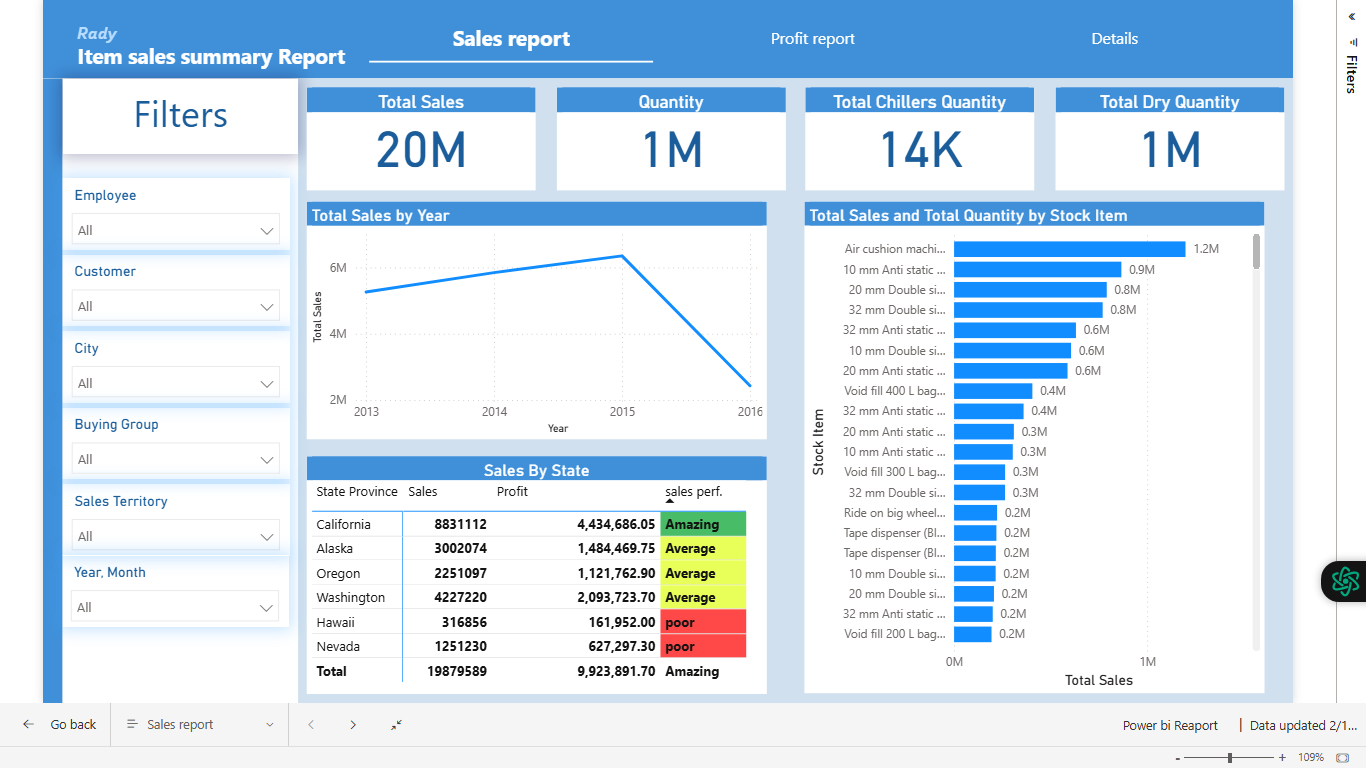

The page's visual inventory and layout, read from the dashboard file:
{"tool":"powerbi","page":{"name":"Sales report","canvas":[1280,720],"ordinal":0},"visuals":[{"type":"shape","box":[0,0,1280,80],"z":0},{"type":"shape","box":[0,80,20,640],"z":1000},{"type":"shape","box":[20,80,241.4,640],"z":2000},{"type":"textbox","box":[20,81.4,241.4,77.1],"z":4000},{"type":"cardVisual","title":"Total Sales","fields":{"Data":["Sum(FactSale.Total Excluding Tax)"]},"box":[270.4,89.6,234.2,105.5],"z":5000},{"type":"cardVisual","title":"Quantity","fields":{"Data":["Sum(FactSale.Quantity)"]},"box":[525.8,89.6,234.2,105.5],"z":6000},{"type":"cardVisual","title":"Total Chillers Quantity","fields":{"Data":["Sum(FactSale.Total Chiller Items)"]},"box":[780.7,89.6,234.2,105.5],"z":7000},{"type":"cardVisual","title":"Total Dry Quantity","fields":{"Data":["Sum(FactSale.Total Dry Items)"]},"box":[1036.6,89.6,234.2,105.5],"z":8000},{"type":"lineChart","fields":{"Category":["DimDate.Date.Variation.Date Hierarchy.Year","DimDate.Date.Variation.Date Hierarchy.Quarter","DimDate.Date.Variation.Date Hierarchy.Month","DimDate.Date.Variation.Date Hierarchy.Day"],"Y":["Sum(FactSale.Total Excluding Tax)"]},"box":[270.4,206.7,471.3,242.9],"z":9000},{"type":"barChart","fields":{"Y":["Sum(FactSale.Total Excluding Tax)"],"Category":["DimStockItem.Stock Item"]},"box":[779.3,206.7,471.3,503.1],"z":10000},{"type":"slicer","fields":{"Values":["DimEmployee.Employee"]},"box":[19.1,182.9,232.9,72.9],"z":12000},{"type":"textbox","box":[30,36,336,46],"z":13000},{"type":"slicer","fields":{"Values":["DimCustomer.Customer"]},"box":[19.1,261.1,232.9,72.9],"z":14000},{"type":"slicer","fields":{"Values":["DimCity.City"]},"box":[19.1,339.3,232.9,72.9],"z":15000},{"type":"slicer","fields":{"Values":["DimCity.Sales Territory"]},"box":[19.1,495.7,232.9,72.9],"z":16000},{"type":"slicer","fields":{"Values":["DimCustomer.Buying Group"]},"box":[19.1,417.5,232.9,72.9],"z":17000},{"type":"pageNavigator","box":[330.3,9.6,919.4,59.2],"z":18000},{"type":"textbox","box":[0,15,110,42.5],"z":19000},{"type":"pivotTable","title":"Sales By State","fields":{"Values":["Sum(FactSale.Total Excluding Tax)","Sum(FactSale.Profit)","FactSale.sales perf."],"Rows":["DimCity.State Province"]},"box":[270.4,467,471.3,242.9],"z":19001},{"type":"slicer","fields":{"Values":["DimDate.Fiscal Year","DimDate.Fiscal Month Label"]},"box":[18.6,568.6,232.9,72.9],"z":19002}]}

Visuals, with their boxes on the page's 1280x720 design canvas (x1, y1, x2, y2). These are canvas units, not pixel positions in the 1366x768 screenshot, which may show the page scaled, cropped or inside an application window:
shape: <bbox>0, 0, 1280, 80</bbox>
shape: <bbox>0, 80, 20, 720</bbox>
shape: <bbox>20, 80, 261, 720</bbox>
textbox: <bbox>20, 81, 261, 158</bbox>
"Total Sales" cardVisual: <bbox>270, 90, 505, 195</bbox>
"Quantity" cardVisual: <bbox>526, 90, 760, 195</bbox>
"Total Chillers Quantity" cardVisual: <bbox>781, 90, 1015, 195</bbox>
"Total Dry Quantity" cardVisual: <bbox>1037, 90, 1271, 195</bbox>
lineChart - DimDate.Date.Variation.Date Hierarchy.Year x DimDate.Date.Variation.Date Hierarchy.Quarter: <bbox>270, 207, 742, 450</bbox>
barChart - Sum(FactSale.Total Excluding Tax) x DimStockItem.Stock Item: <bbox>779, 207, 1251, 710</bbox>
slicer - DimEmployee.Employee: <bbox>19, 183, 252, 256</bbox>
textbox: <bbox>30, 36, 366, 82</bbox>
slicer - DimCustomer.Customer: <bbox>19, 261, 252, 334</bbox>
slicer - DimCity.City: <bbox>19, 339, 252, 412</bbox>
slicer - DimCity.Sales Territory: <bbox>19, 496, 252, 569</bbox>
slicer - DimCustomer.Buying Group: <bbox>19, 418, 252, 490</bbox>
pageNavigator: <bbox>330, 10, 1250, 69</bbox>
textbox: <bbox>0, 15, 110, 58</bbox>
"Sales By State" pivotTable: <bbox>270, 467, 742, 710</bbox>
slicer - DimDate.Fiscal Year x DimDate.Fiscal Month Label: <bbox>19, 569, 252, 642</bbox>
